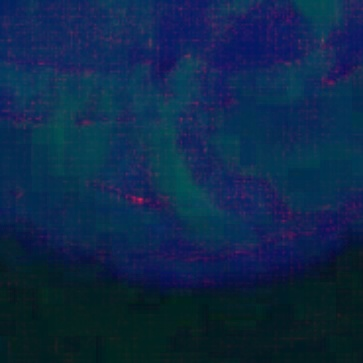rip_current: (121, 38, 263, 247)
